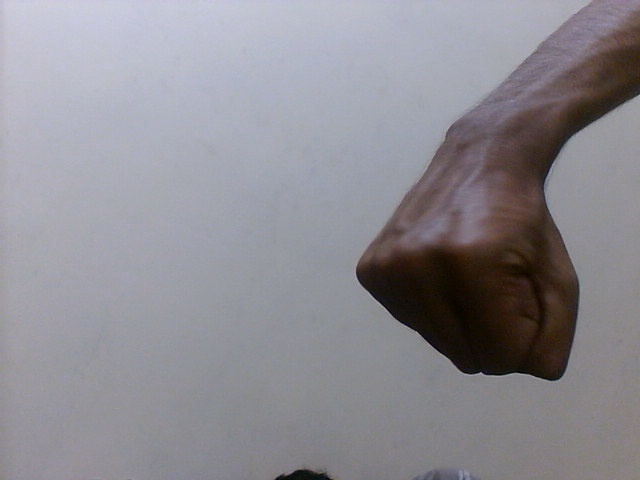hand: (351, 115, 582, 383)
